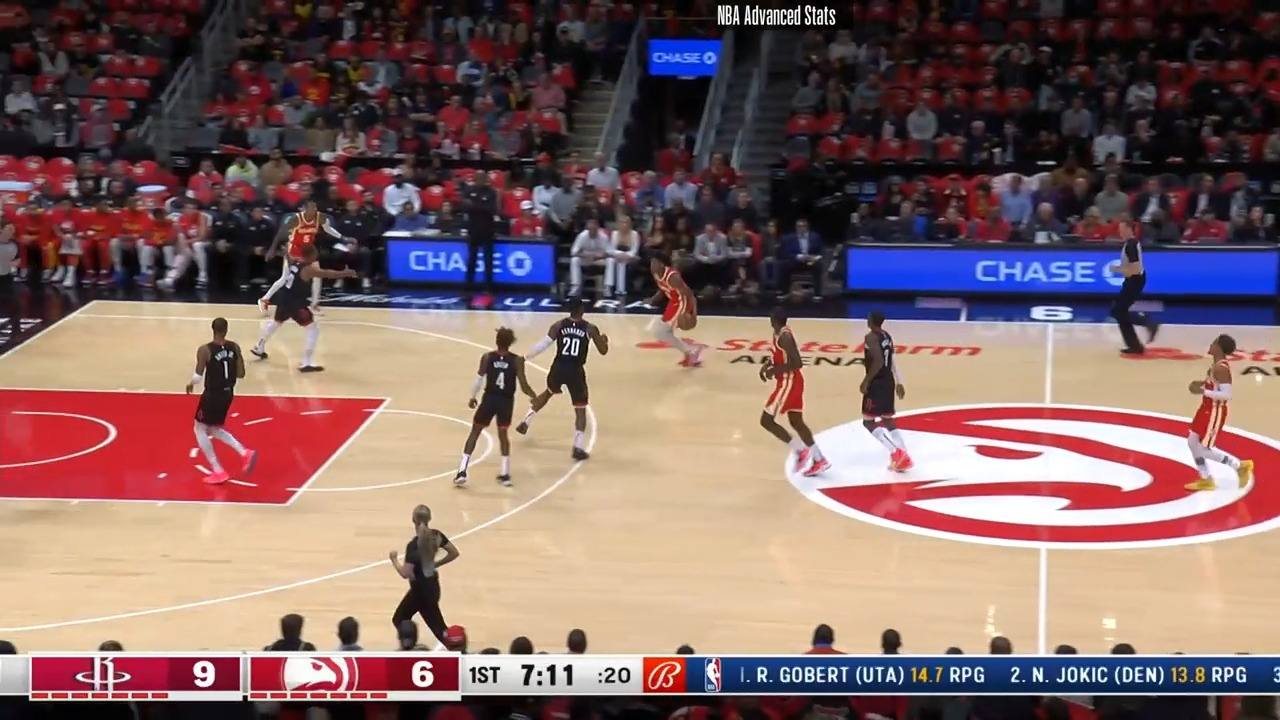player: (514, 299, 611, 469), (747, 308, 825, 488), (451, 325, 533, 491), (250, 240, 343, 378), (1176, 330, 1249, 496), (848, 306, 915, 486), (186, 317, 257, 485), (262, 197, 342, 308), (641, 253, 713, 373)
referee: (386, 502, 467, 649), (1104, 213, 1157, 359), (0, 216, 26, 337)
